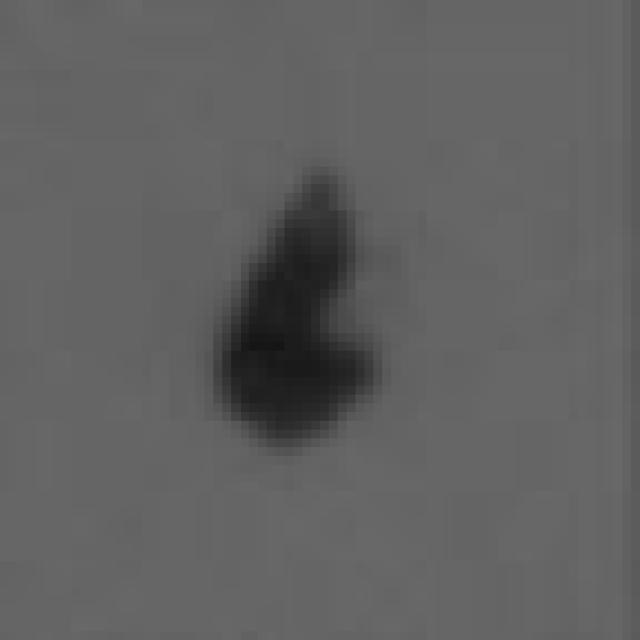Defect2: (179, 158, 432, 474)
